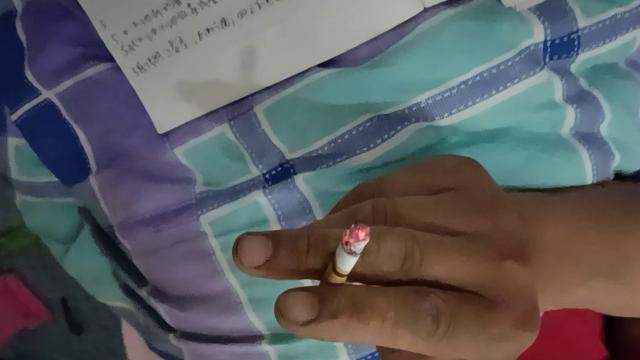Cigarette: (314, 222, 372, 298)
